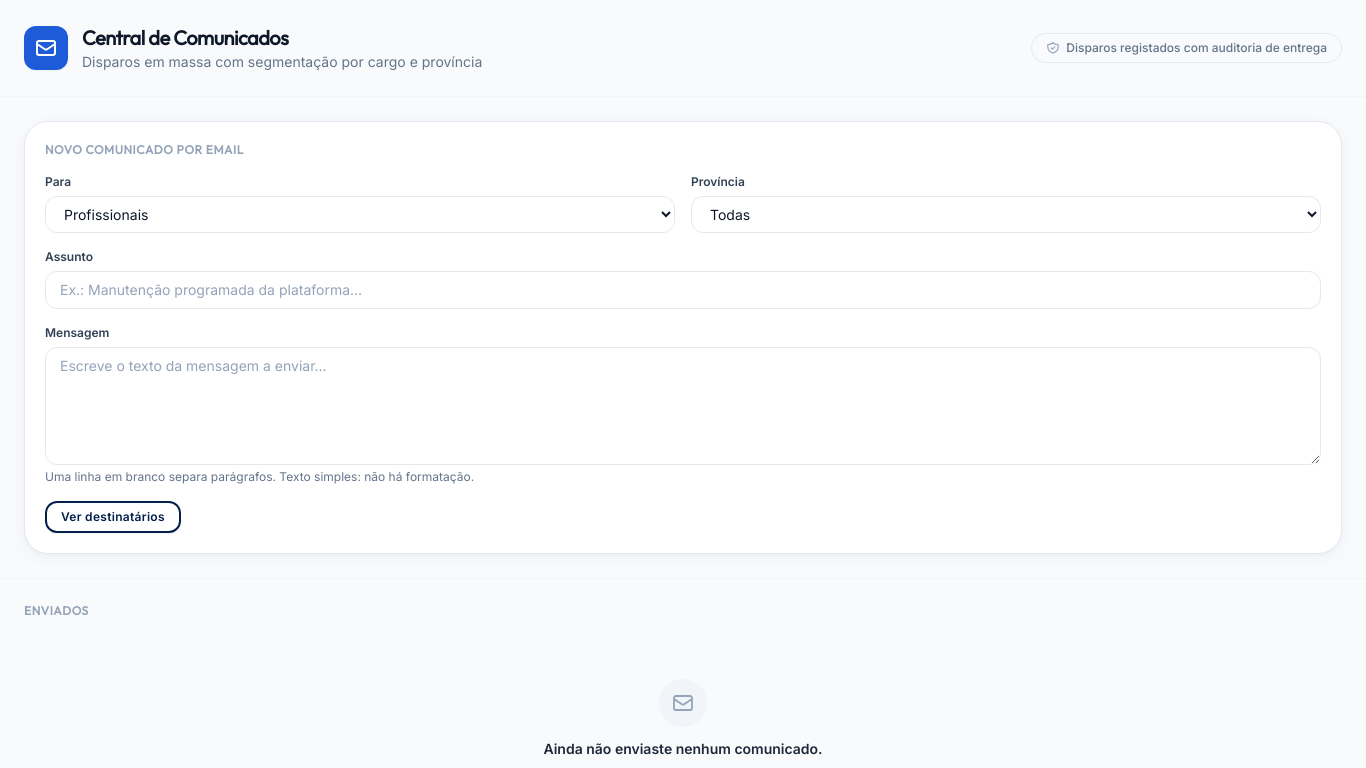
AdminBroadcasts — envio › mudar o grupo depois de contar apaga o número: tem de contar outra vez
Type " Manutenção " into the field labelled "Assunto". click: (683, 290)
box: [45, 271, 1321, 309]
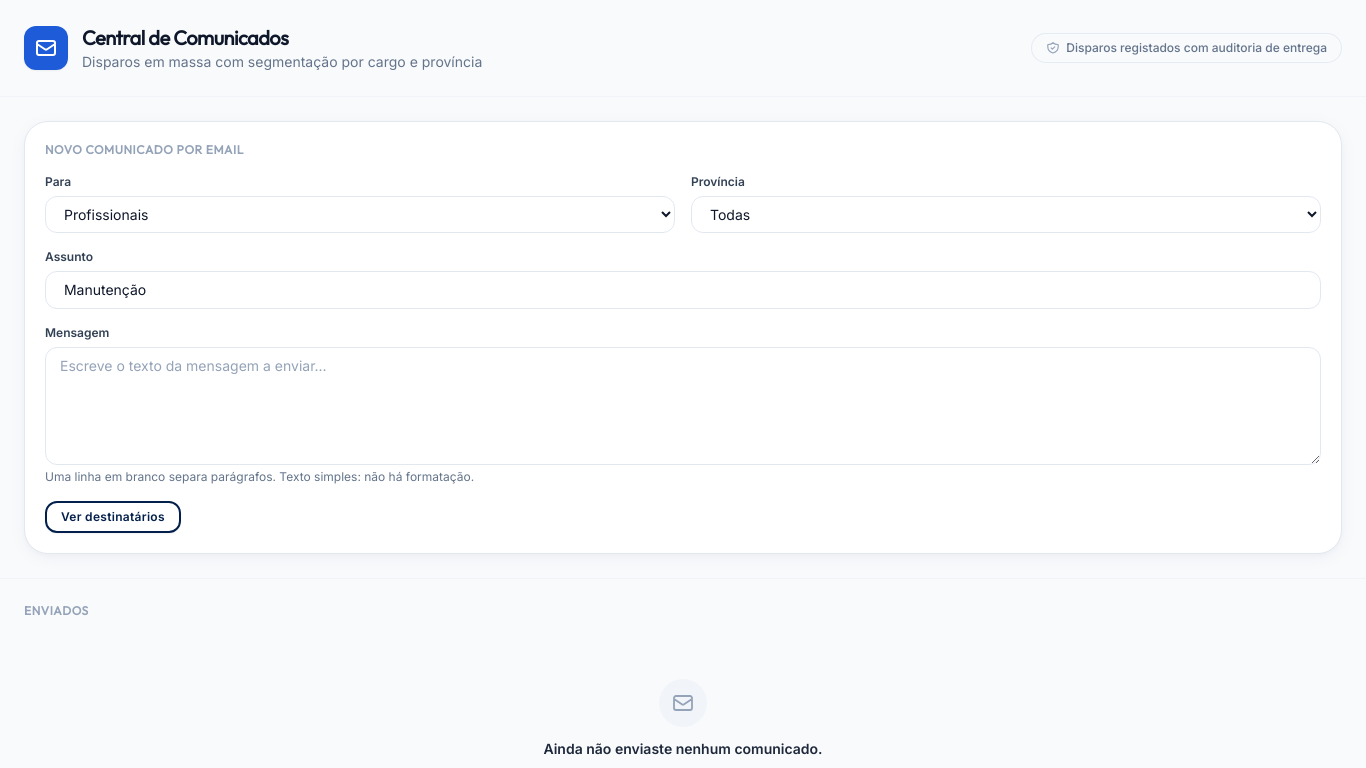
Type " A plataforma fica parada duas horas. " into the text box labelled "Mensagem". click: (683, 406)
box: [45, 347, 1321, 465]
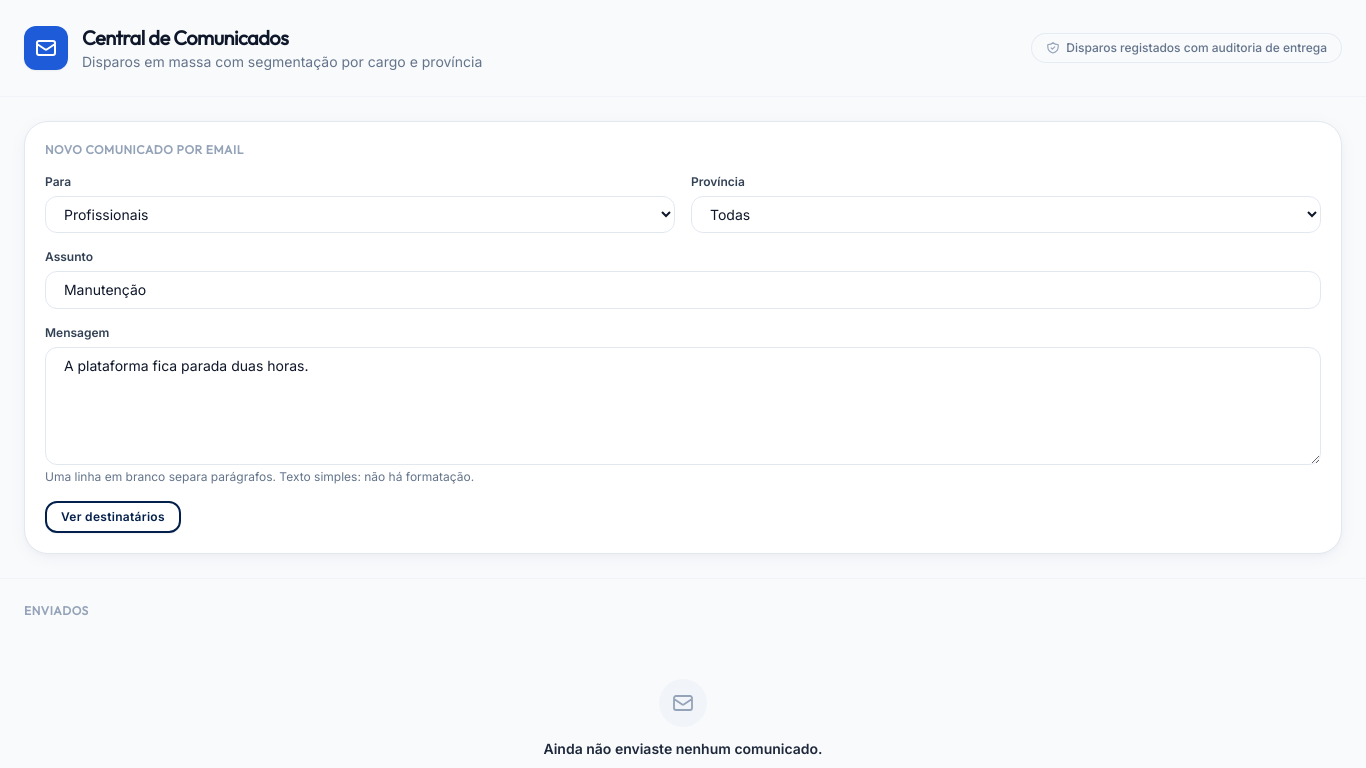
Click the button "Ver destinatários". click: (113, 517)
box: [45, 501, 181, 533]
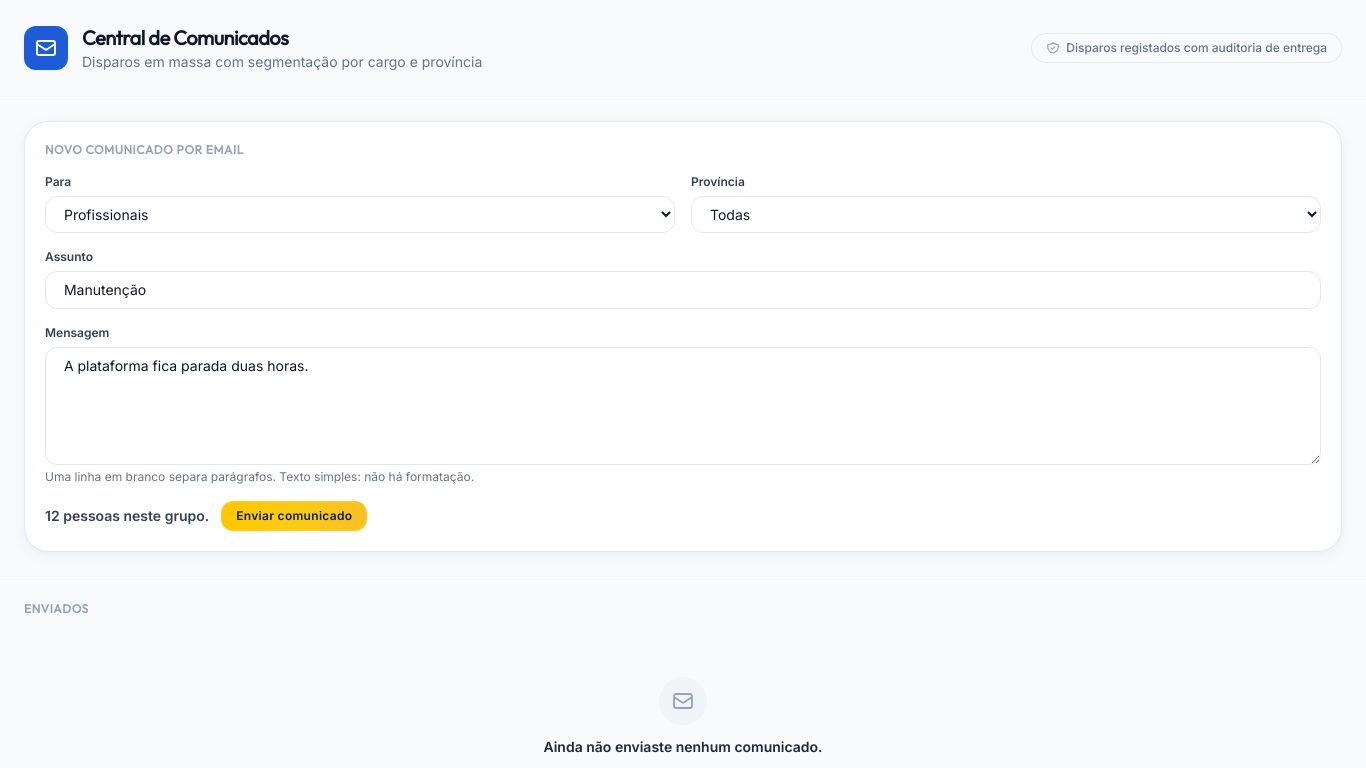
Now the button "Enviar comunicado" is shown, box [221, 501, 367, 531]
Select "Clientes" in the dropdown labelled "Para". click: (360, 214)
box: [45, 196, 675, 233]
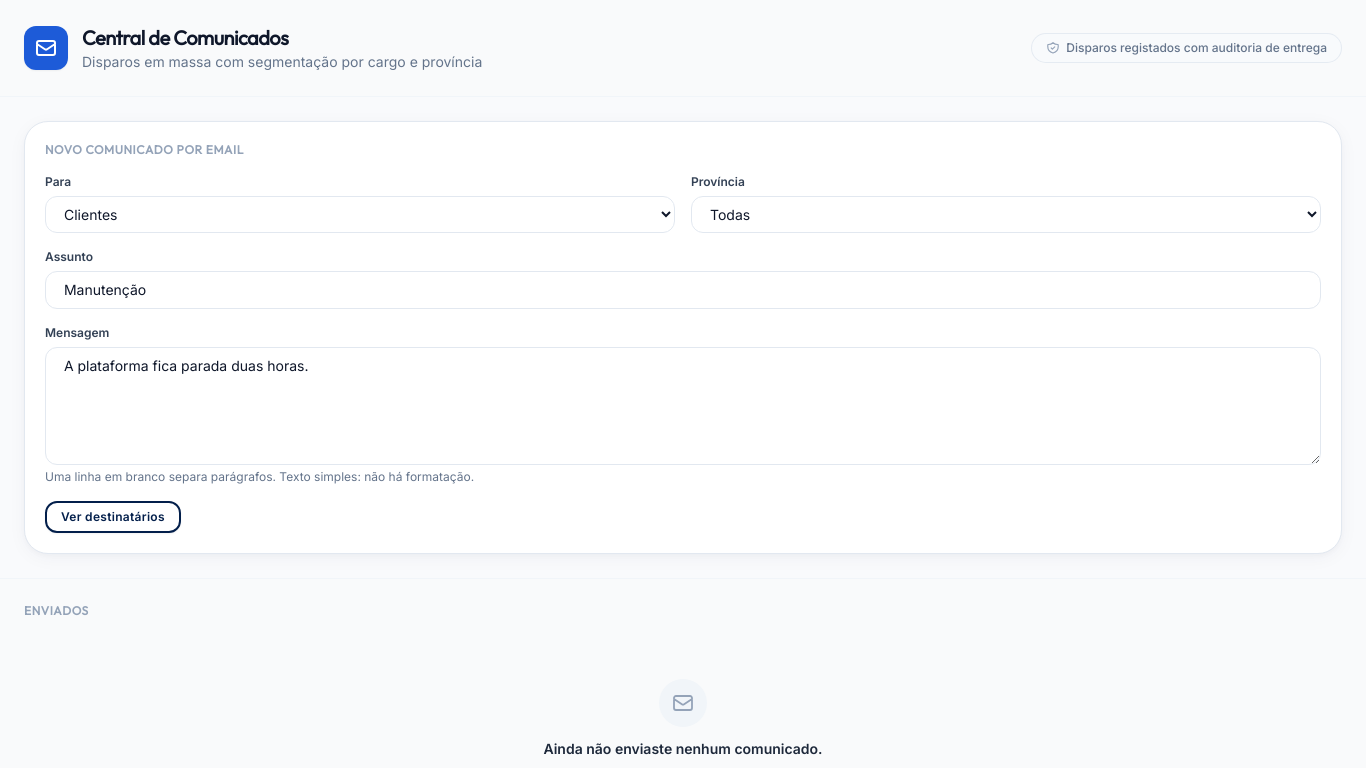
Now the button "Enviar comunicado" is gone
Now the button "Ver destinatários" is shown, box [45, 501, 181, 533]
